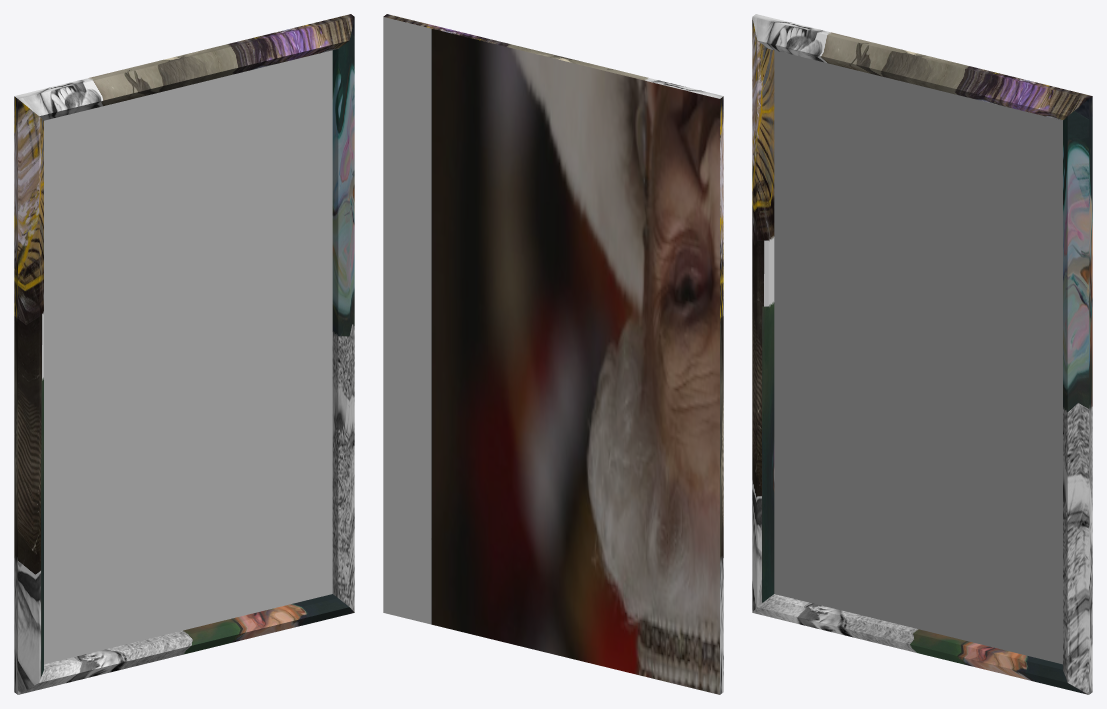
File: EN_P_TallFrame.fbx
3 renders of one model, left to right at view 1: azimuth 30°, elevation 25°; view 2: azimuth 150°, elevation 25°; view 3: azimuth 330°, elevation 25°, orthographic.
Parts seen in each view (by area): view 1: frameBig; view 2: frameBig; view 3: frameBig.
Part boxes in pixels (bbox=[...]): frameBig: bbox=[14, 14, 354, 694]; frameBig: bbox=[383, 14, 723, 694]; frameBig: bbox=[752, 14, 1092, 694].
Bounding box in the file's own units: 67.91 × 115 × 4.13.
